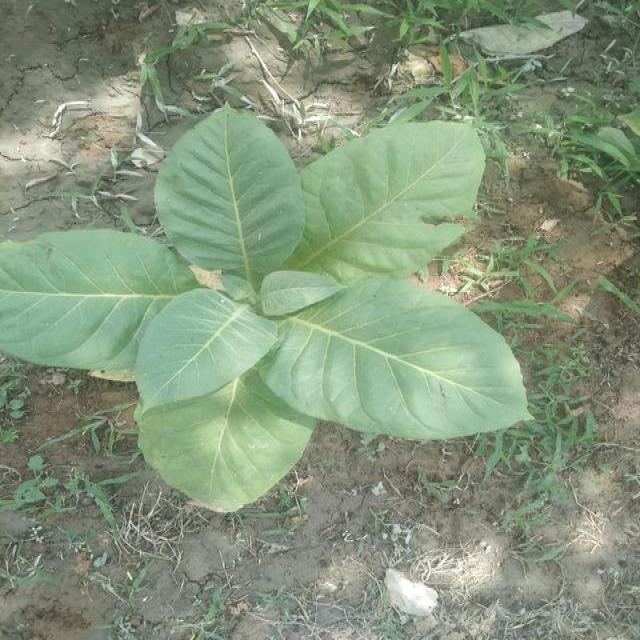crop: (0, 107, 536, 534)
